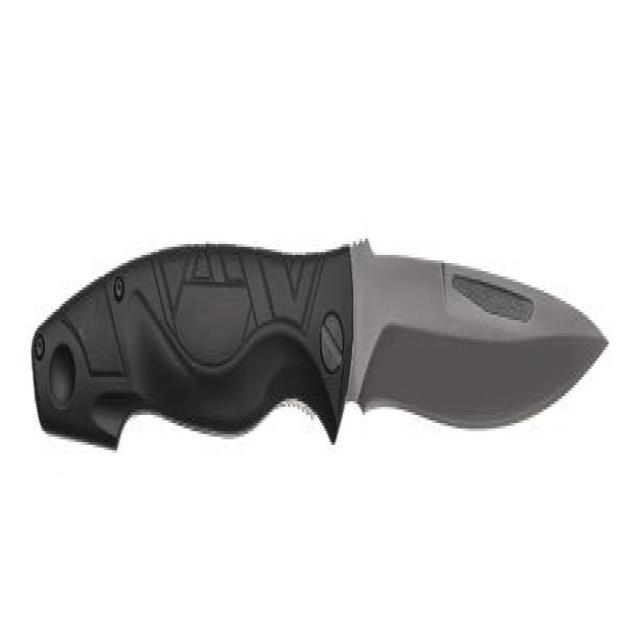knife: (23, 208, 616, 476)
